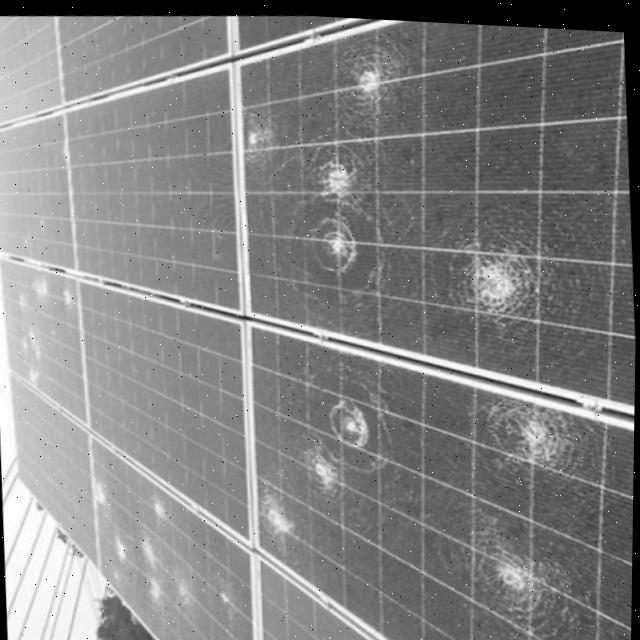Anomaly Solar Panel: (237, 13, 636, 407), (252, 321, 636, 640), (91, 434, 259, 640), (0, 254, 90, 427)
Normal Solar Panel: (75, 281, 248, 542), (62, 67, 236, 307), (10, 372, 99, 569), (55, 14, 230, 102), (0, 113, 75, 272), (0, 16, 63, 125)
Structural Damage: (451, 510, 570, 627), (449, 233, 542, 322), (490, 393, 569, 474), (313, 381, 385, 456), (287, 429, 355, 506), (337, 46, 396, 117), (313, 210, 359, 267), (312, 149, 361, 200), (258, 484, 301, 542), (230, 105, 270, 162), (136, 532, 165, 604), (17, 325, 49, 387), (108, 529, 133, 564), (151, 489, 171, 521), (31, 274, 51, 297), (94, 478, 107, 505), (61, 286, 72, 302)
